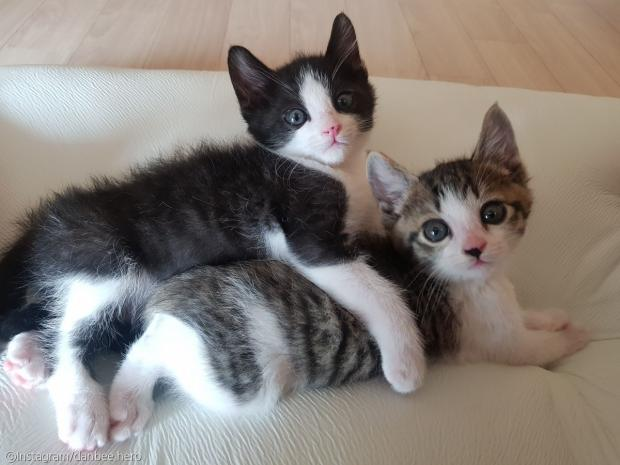cat: (1, 11, 423, 393), (106, 104, 597, 427)
cat-face: (364, 109, 543, 286), (225, 11, 374, 162)
